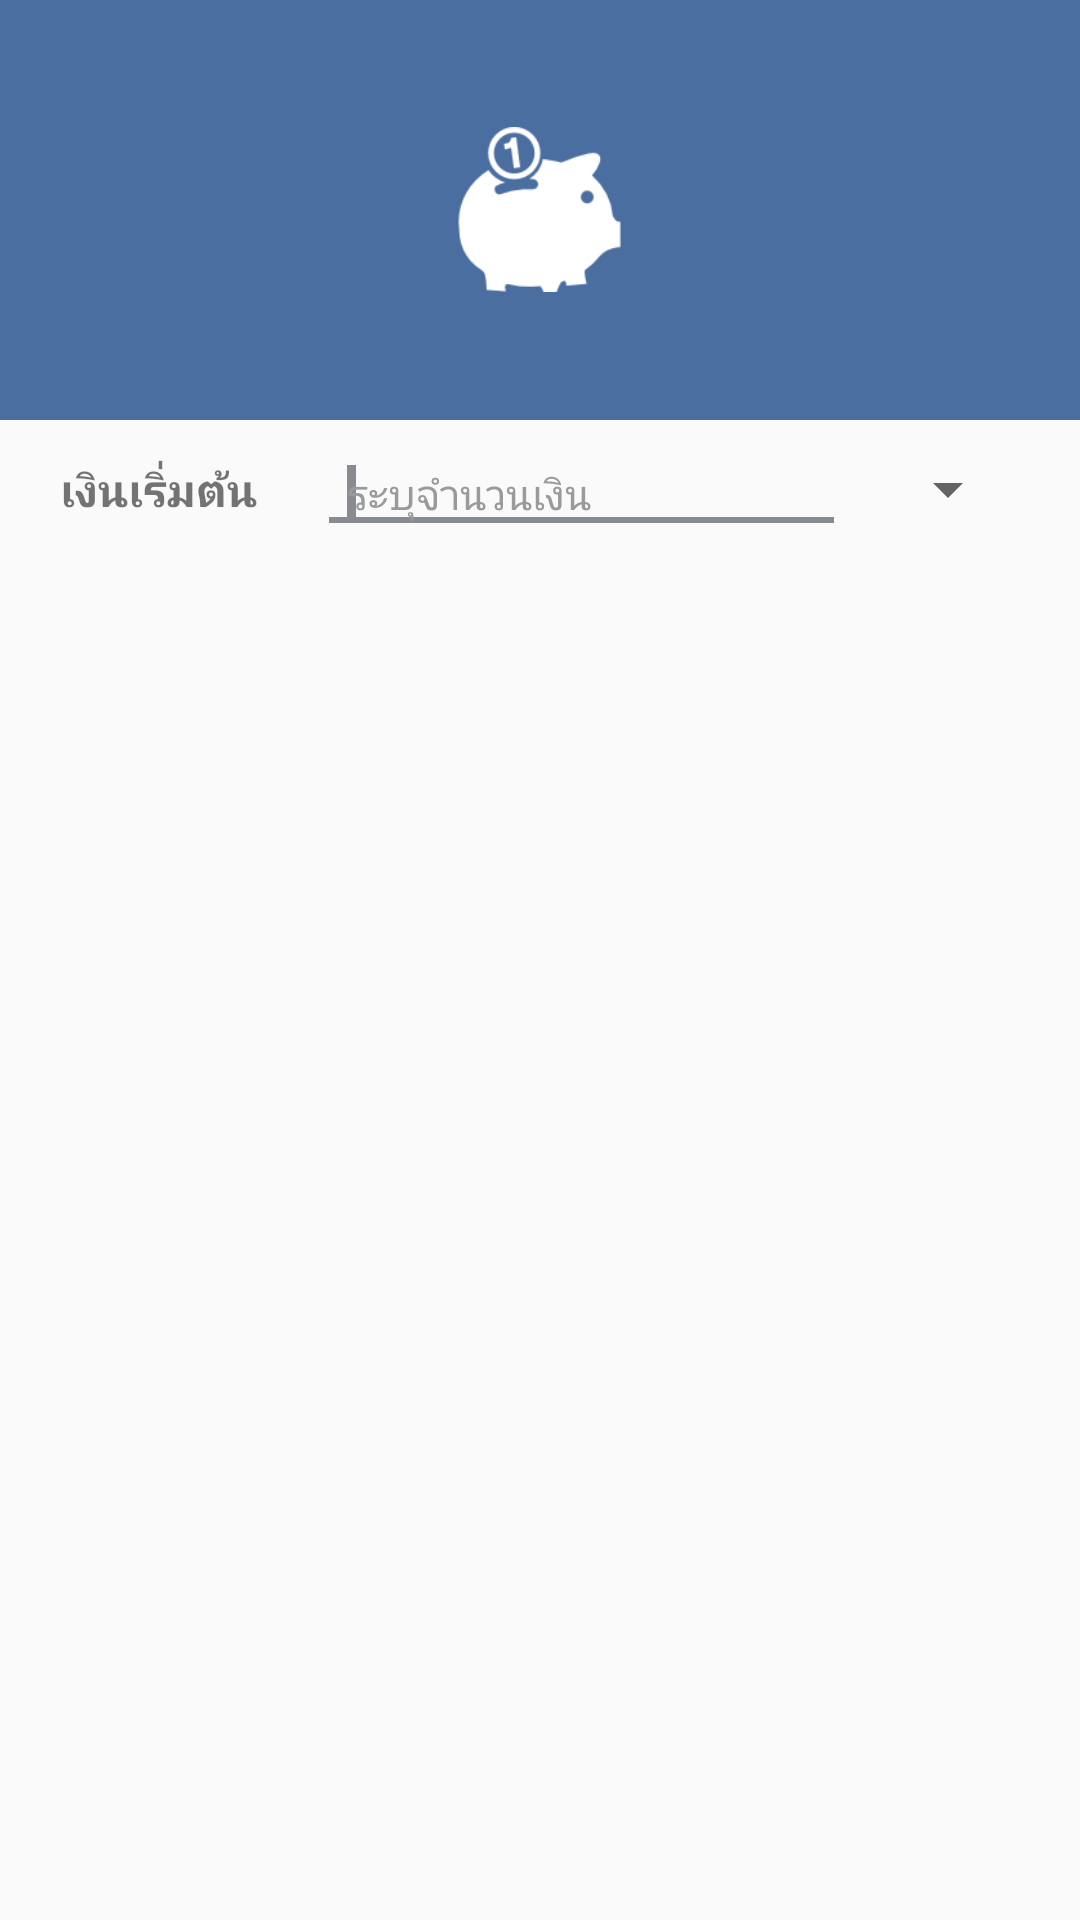

Where icons sit on this 1080w x 1920h app screen, as box=[x1, y1, x2, y2]:
piggy: box=[458, 127, 621, 292]
